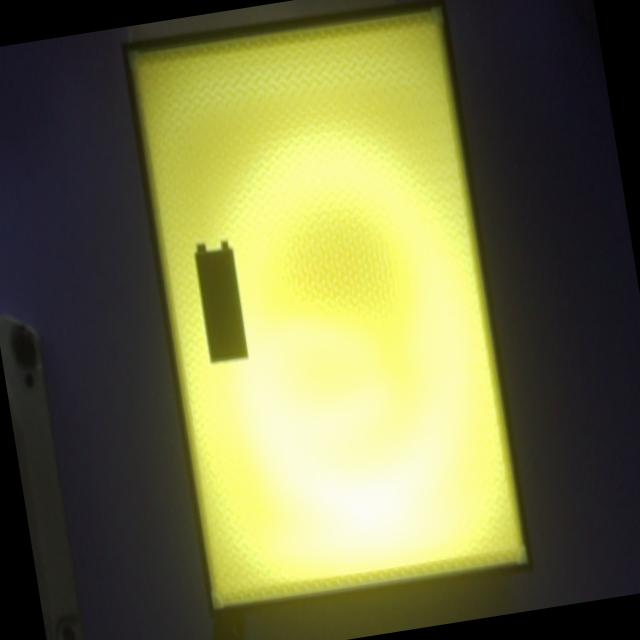bateria: (194, 240, 251, 365)
mesa: (120, 0, 535, 620)
